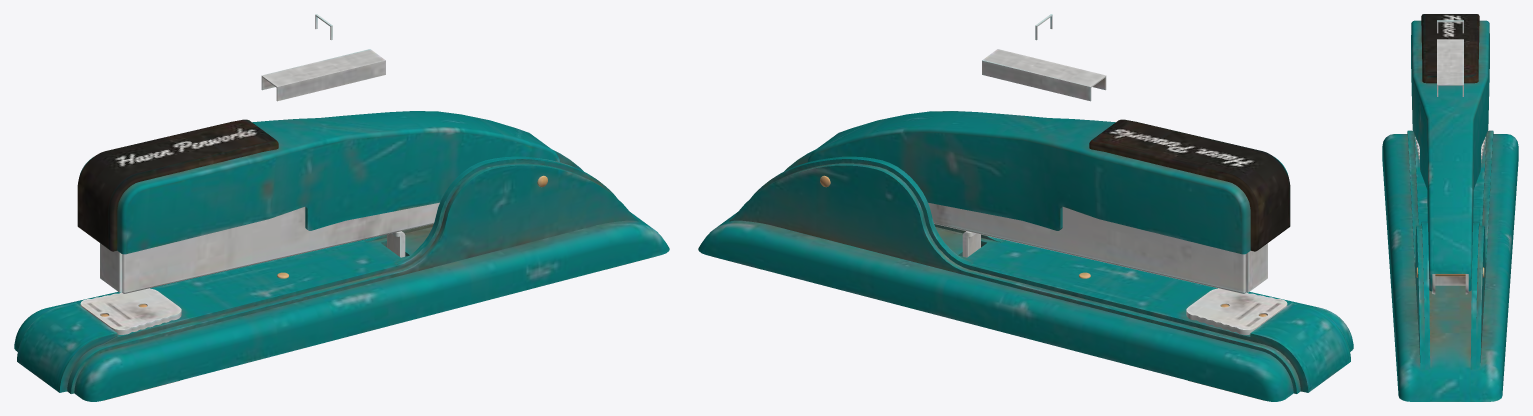
Rendered from vintage_stapler.gltf.
3 renders of one model, left to right at view 1: azimuth 30°, elevation 25°; view 2: azimuth 150°, elevation 25°; view 3: azimuth 270°, elevation 25°, orthographic. The views are drawn at different scales.
Visible parts, largest first — view 1: vintage_stapler_base, vintage_stapler_top, vintage_stapler_staples; view 2: vintage_stapler_base, vintage_stapler_top, vintage_stapler_staples; view 3: vintage_stapler_base, vintage_stapler_top, vintage_stapler_staples.
Boxes of the visible parts, bbox=[...] form: vintage_stapler_base: bbox=[14, 149, 669, 401]; vintage_stapler_top: bbox=[77, 111, 560, 293]; vintage_stapler_staples: bbox=[261, 49, 385, 101]; vintage_stapler_base: bbox=[698, 149, 1353, 401]; vintage_stapler_top: bbox=[807, 111, 1290, 293]; vintage_stapler_staples: bbox=[982, 49, 1106, 101]; vintage_stapler_base: bbox=[1382, 130, 1518, 401]; vintage_stapler_top: bbox=[1411, 14, 1489, 294]; vintage_stapler_staples: bbox=[1437, 39, 1463, 96].
Size of the model in its own units: 0.2085 by 0.0953 by 0.0474.
1 material, 1 textured.
